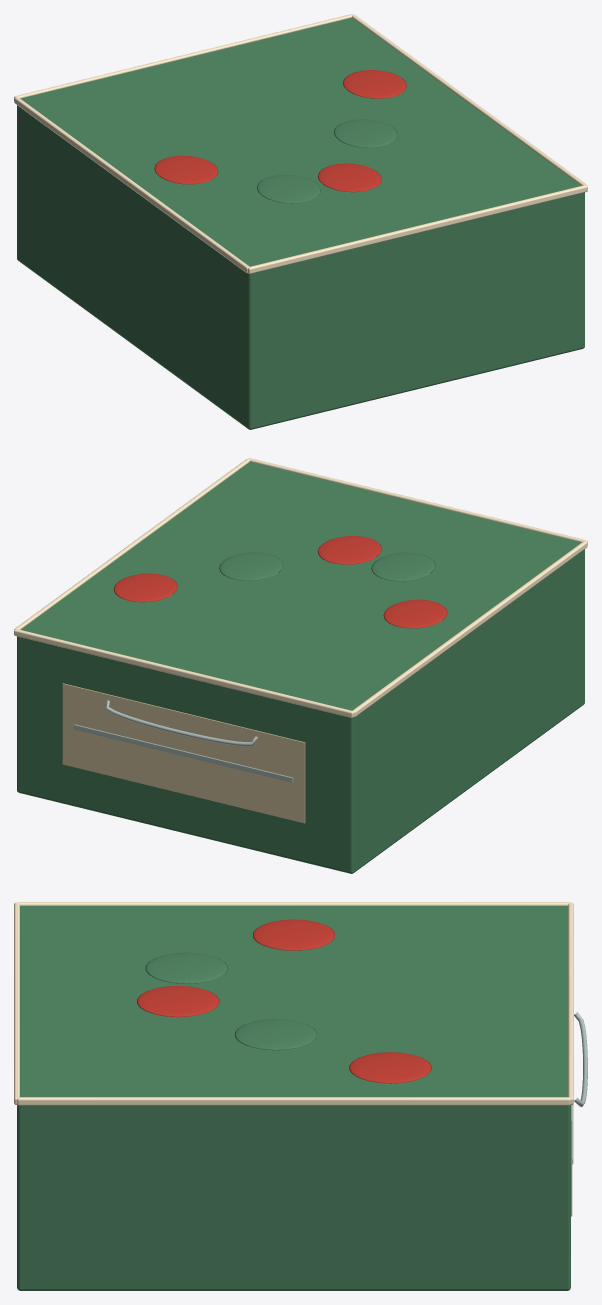
File: fridge-vegetable-bin.glb
The picture shows the model from 3 angles, top to bottom: view 1: azimuth 30°, elevation 25°; view 2: azimuth 150°, elevation 25°; view 3: azimuth 270°, elevation 25°; orthographic projection. The views are drawn at different scales.
Visible parts, largest first — view 1: green, ivory, red; view 2: green, cream, ivory, red, steel; view 3: green, ivory, red, steel.
Part boxes in pixels (left/top/right/bottom): green: left=17, top=17, right=584, bottom=429; ivory: left=14, top=14, right=587, bottom=273; red: left=154, top=70, right=406, bottom=192; green: left=17, top=461, right=584, bottom=873; cream: left=62, top=683, right=305, bottom=823; ivory: left=14, top=458, right=587, bottom=717; red: left=113, top=536, right=447, bottom=628; steel: left=74, top=700, right=293, bottom=782; green: left=17, top=906, right=570, bottom=1290; ivory: left=14, top=902, right=573, bottom=1105; red: left=137, top=919, right=431, bottom=1083; steel: left=572, top=1012, right=587, bottom=1164.
Size of the model in its own units: 10.13 by 4.67 by 12.43.
